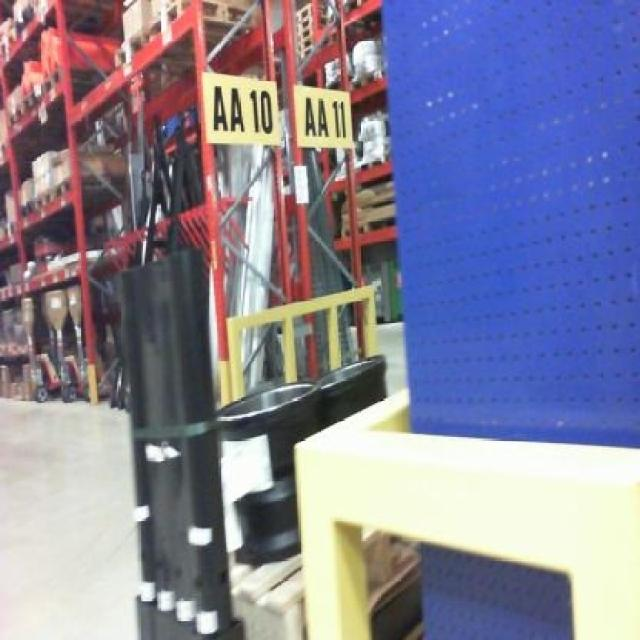pallets: (383, 0, 637, 443), (294, 389, 637, 637)
